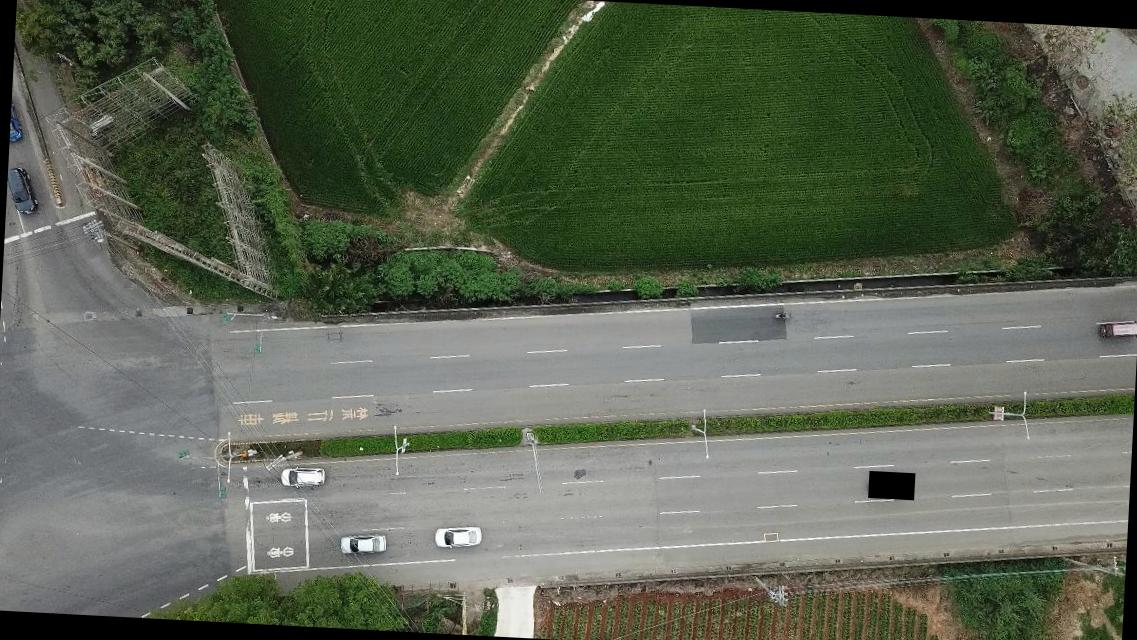vehicle: (337, 526, 390, 559), (276, 460, 325, 490), (433, 523, 483, 552), (1096, 318, 1136, 346)
